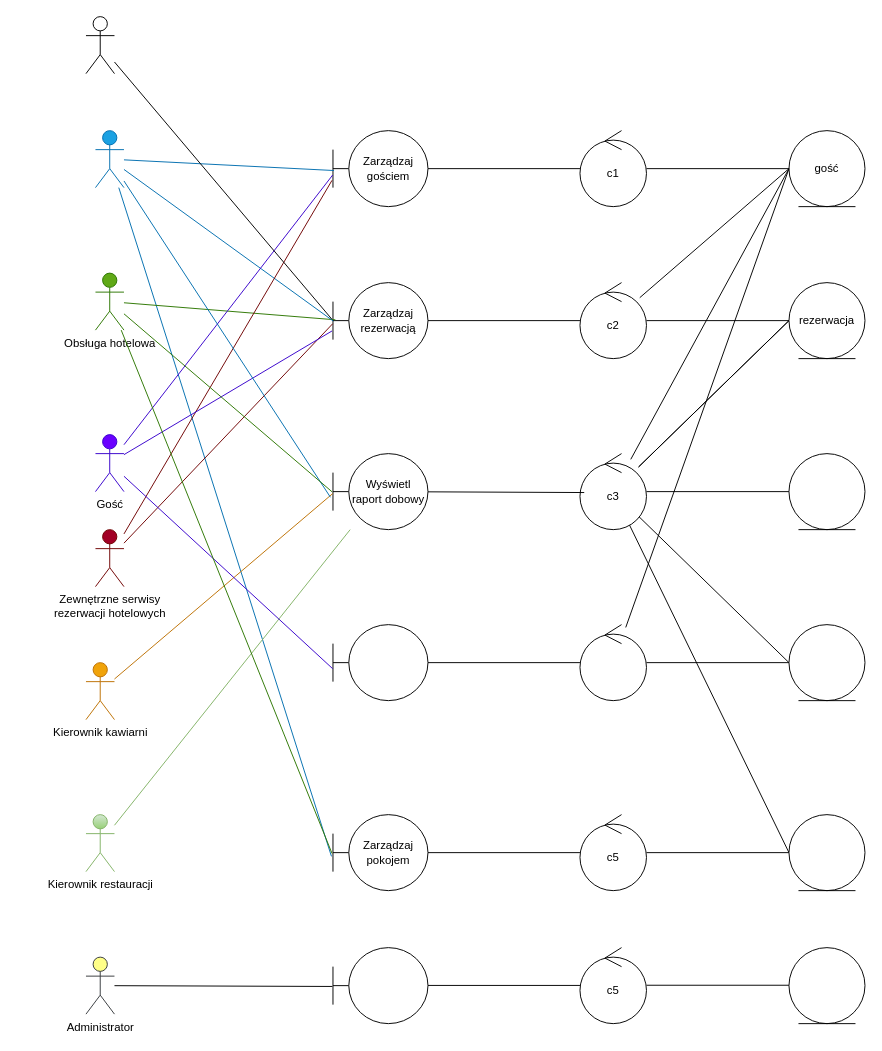
The diagram is 882 pixels wide and 1051 high, and some of its shapes have lost their labels. Here are the shapes that lost their labels. From the top down, the centre of each, then its label:
At point 99,45: "Programator kart magnetycznych".
At point 109,159: "Recepcjonista".
At point 826,491: "raport dobowy".
At point 380,662: "Zarządzaj zgłoszeniem".
At point 612,662: "c4".
At point 826,662: "zgłoszenie".
At point 826,852: "pokój".
At point 380,985: "Zarządzaj pracownikiem".
At point 826,985: "pracownik".
